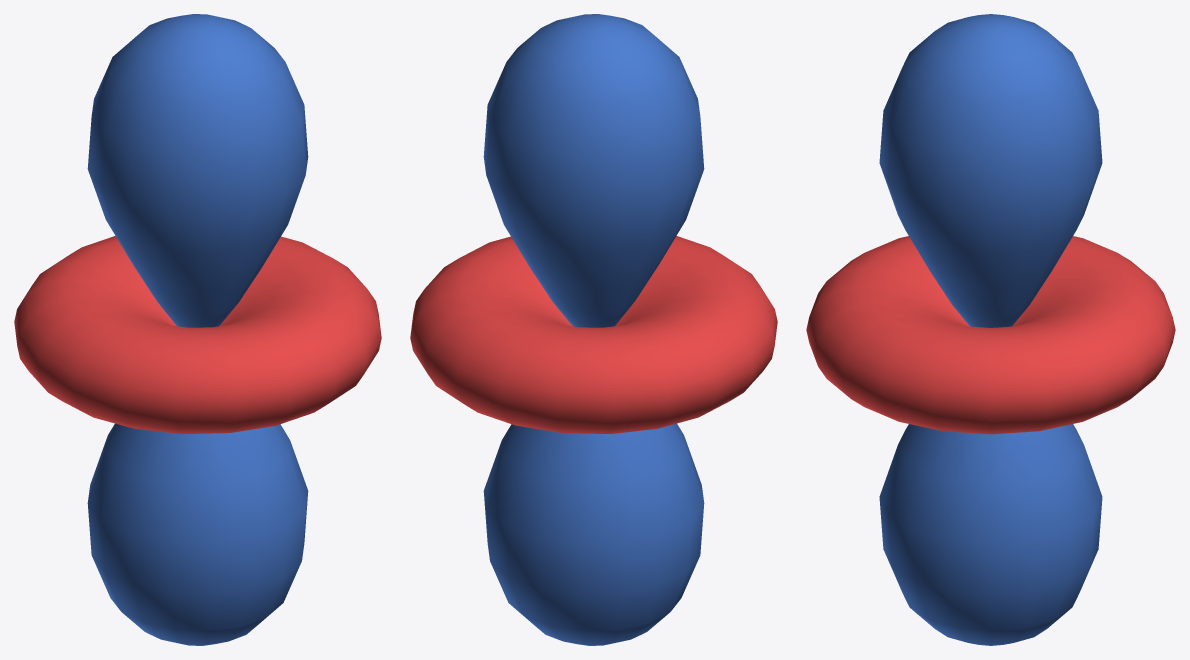
Rendered from Orbital_D_v01.fbx.
3 views of the same model, side by side, from view 1: azimuth 30°, elevation 25°; view 2: azimuth 150°, elevation 25°; view 3: azimuth 270°, elevation 25° (orthographic).
Parts seen in each view (by area): view 1: Oribital_D_2, Oribital_D_1, Oribital_D_3; view 2: Oribital_D_2, Oribital_D_1, Oribital_D_3; view 3: Oribital_D_2, Oribital_D_1, Oribital_D_3.
Boxes of the visible parts, x1,y1,x2,y2 form: Oribital_D_2: (87, 14, 308, 327); Oribital_D_1: (14, 236, 381, 433); Oribital_D_3: (87, 423, 308, 645); Oribital_D_2: (483, 14, 704, 327); Oribital_D_1: (410, 236, 777, 433); Oribital_D_3: (483, 423, 704, 645); Oribital_D_2: (879, 14, 1102, 327); Oribital_D_1: (806, 236, 1175, 434); Oribital_D_3: (879, 424, 1102, 645).
Size of the model in its own units: 163 by 297 by 163.
